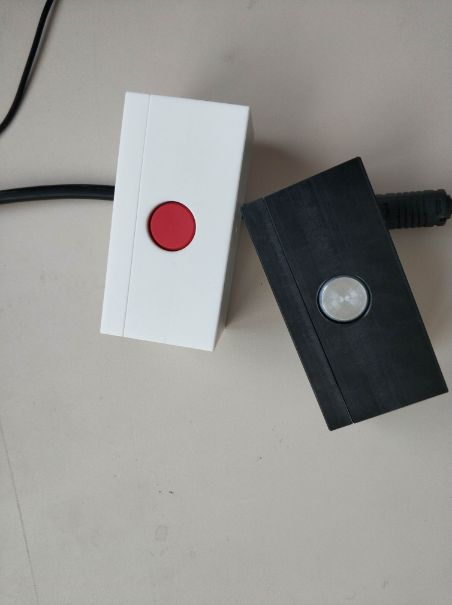black+black+silver: (238, 154, 452, 435)
white+white+red: (97, 90, 256, 355)
